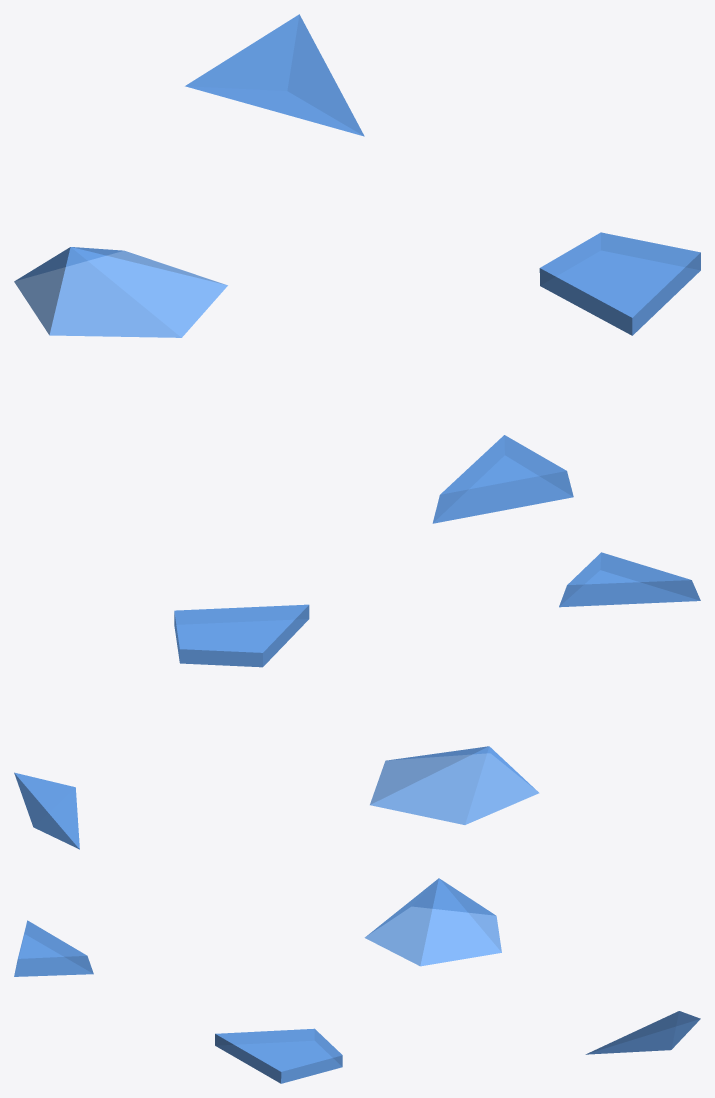
Rendered from Crystals_s_03.fbx.
3 renders of one model, top to bottom at view 1: azimuth 30°, elevation 25°; view 2: azimuth 150°, elevation 25°; view 3: azimuth 270°, elevation 25°, orthographic. The views are drawn at different scales.
Parts seen in each view (by area): view 1: Crystals_s_03; view 2: Crystals_s_03; view 3: Crystals_s_03.
Boxes of the visible parts, x1,y1,x2,y2 form: Crystals_s_03: (14,14,700,523); Crystals_s_03: (14,552,700,849); Crystals_s_03: (14,878,700,1083).
Size of the model in its own units: 49.86 by 5.96 by 80.94.
